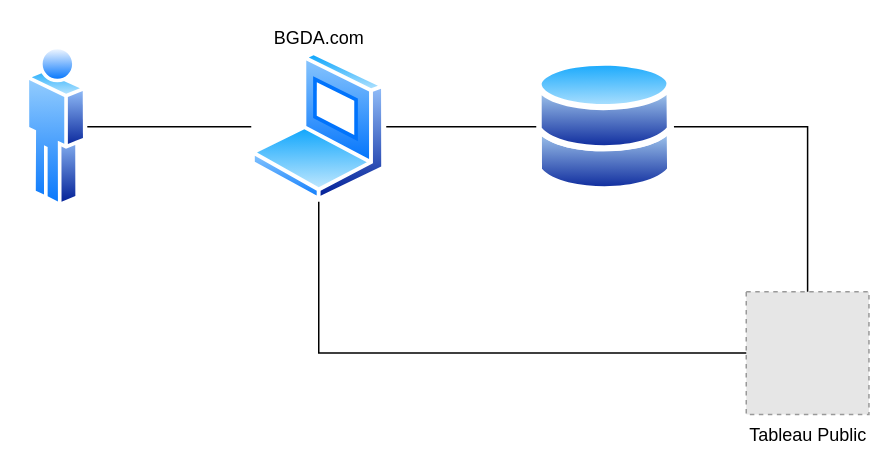
Image size: 896x471. Some labels were removed from this diagram. Grey dashed boxes stand in for pictures. The shapes that lost their labels are listed below. From the top down, each one's box as (x1, y1, x2, y2) in pixels, then its label:
(26, 44, 87, 208): User
(536, 58, 673, 194): MySQL
